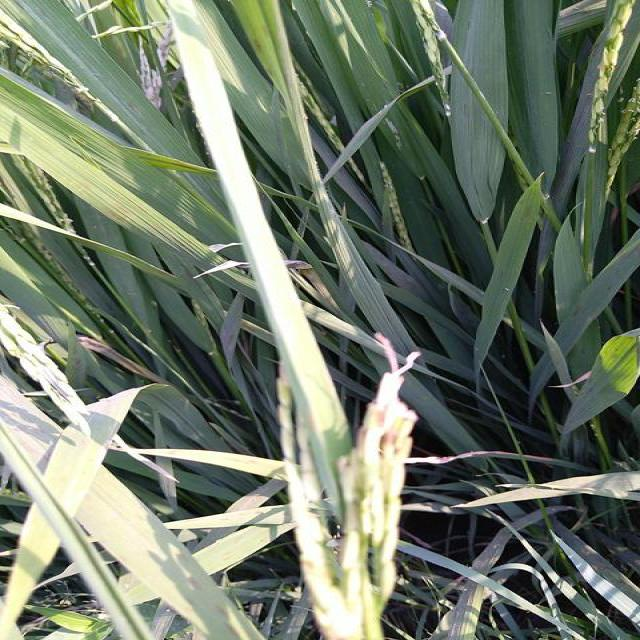Panicle Blight: (357, 352, 421, 463)
